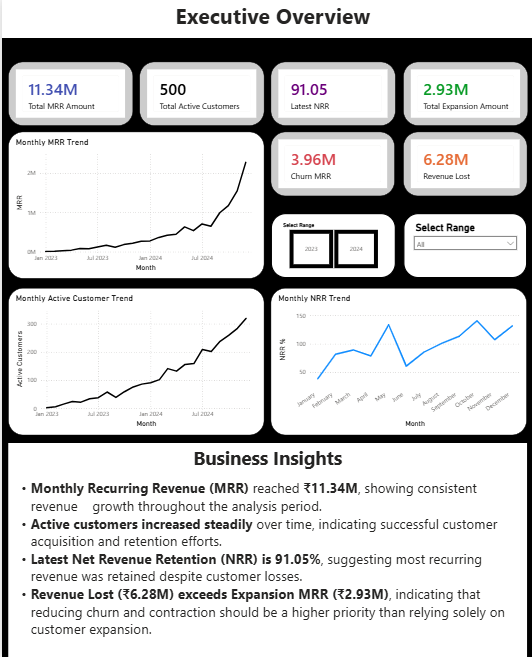

What the dashboard file says about the page in this screenshot:
{"tool":"powerbi","page":{"name":"Executive Overview","canvas":[1063,1320],"ordinal":0},"visuals":[{"type":"cardVisual","fields":{"Data":["Count(total_active_cust.account_id)"]},"box":[275,126.7,249.4,127.7],"z":0},{"type":"cardVisual","fields":{"Data":["Sum(monthly_mrr.mrr_amount)"]},"box":[12,126.7,249.4,127.7],"z":1000},{"type":"cardVisual","fields":{"Data":["Measures (2).Latest NRR"]},"box":[538,126.7,249.4,127.7],"z":2000},{"type":"cardVisual","fields":{"Data":["Sum(monthly_expansion.expansion_amount)"]},"box":[802.5,126.7,249.4,127.7],"z":3000},{"type":"lineChart","title":"Monthly MRR Trend","fields":{"Y":["Sum(monthly_mrr.mrr_amount)"],"Category":["monthly_mrr.year_and_month.Variation.Date Hierarchy.Month"]},"box":[12.4,268.2,511.8,293.7],"z":4000},{"type":"slicer","fields":{"Values":["DateTable.Year"]},"box":[537.5,430.4,250,130.4],"z":5000},{"type":"slicer","fields":{"Values":["DateTable.month name"]},"box":[801.8,430.4,248.2,130.4],"z":6000},{"type":"lineChart","title":"Monthly Active Customer Trend","fields":{"Y":["Count(total_active_cust.account_id)"],"Category":["total_active_cust.year_and_month.Variation.Date Hierarchy.Month"]},"box":[12.7,580.3,512.3,294.3],"z":7000},{"type":"lineChart","title":"Monthly NRR Trend","fields":{"Category":["nrr_df.year_and_month.Variation.Date Hierarchy.Month"],"Y":["Sum(nrr_df.nrr_percent)"]},"box":[537.7,580.3,512.3,294.3],"z":8000},{"type":"cardVisual","fields":{"Data":["Measures (2).Revenue_lost"]},"box":[801.8,267.9,248.2,128.6],"z":9000},{"type":"cardVisual","fields":{"Data":["Measures (2).Churn MRR"]},"box":[537.5,267.9,248.2,128.6],"z":10000},{"type":"textbox","box":[0,0,1083.9,80.4],"z":10001},{"type":"textbox","box":[12.5,891.1,1037.5,428.6],"z":10002}]}

Visuals, with their boxes in screenshot pixels (x1, y1, x2, y2), scaled from the page's 1063x1320 canvas onto the 532x657 screenshot:
cardVisual - Count(total_active_cust.account_id): [left=138, top=63, right=262, bottom=127]
cardVisual - Sum(monthly_mrr.mrr_amount): [left=6, top=63, right=131, bottom=127]
cardVisual - Measures (2).Latest NRR: [left=269, top=63, right=394, bottom=127]
cardVisual - Sum(monthly_expansion.expansion_amount): [left=402, top=63, right=526, bottom=127]
"Monthly MRR Trend" lineChart: [left=6, top=133, right=262, bottom=280]
slicer - DateTable.Year: [left=269, top=214, right=394, bottom=279]
slicer - DateTable.month name: [left=401, top=214, right=525, bottom=279]
"Monthly Active Customer Trend" lineChart: [left=6, top=289, right=263, bottom=435]
"Monthly NRR Trend" lineChart: [left=269, top=289, right=525, bottom=435]
cardVisual - Measures (2).Revenue_lost: [left=401, top=133, right=525, bottom=197]
cardVisual - Measures (2).Churn MRR: [left=269, top=133, right=393, bottom=197]
textbox: [left=0, top=0, right=531, bottom=40]
textbox: [left=6, top=444, right=525, bottom=656]
